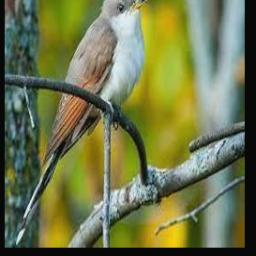Cuckoo: (13, 0, 146, 248)
